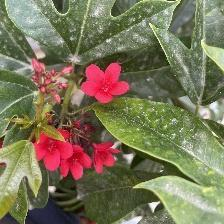jatropha: (80, 60, 133, 103)
